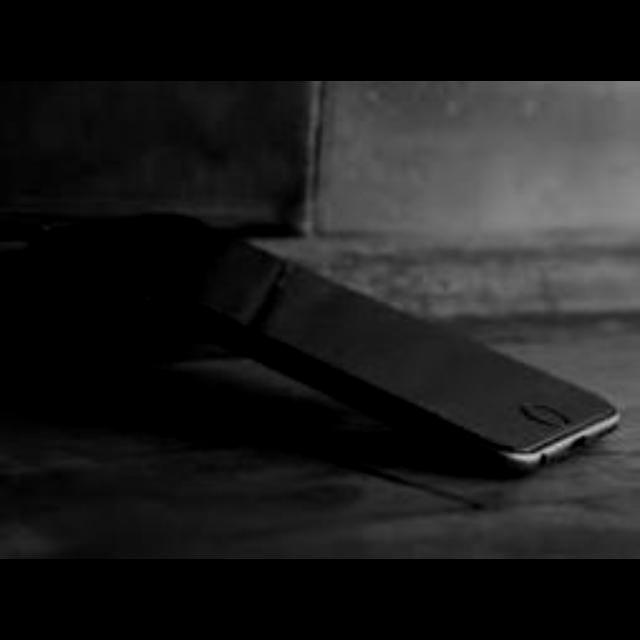fake: (58, 186, 630, 462)
